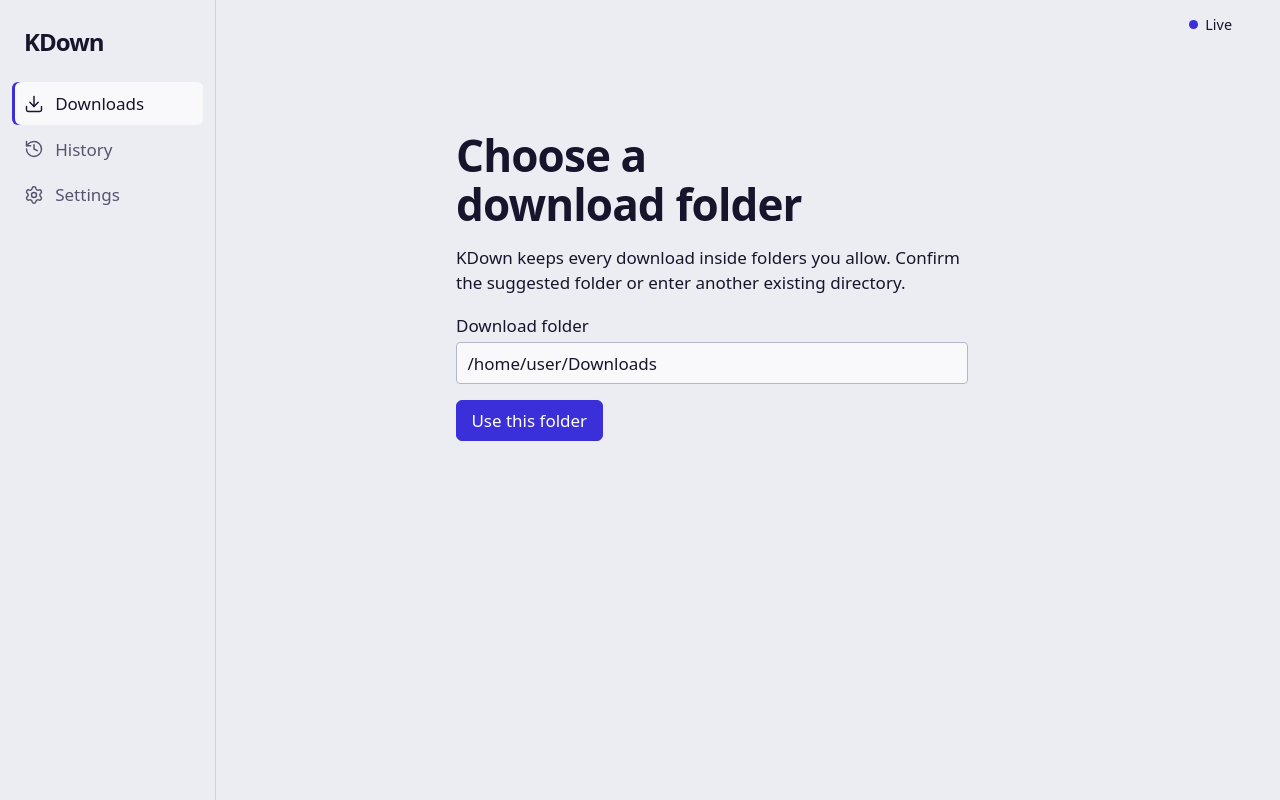
Test: FirstRunSetup › confirms the suggested path and makes it the default
This screenshot has width=1280, height=800.
Expected: the heading "Choose a download folder" is shown, left=456, top=125, right=802, bottom=234
Expected: the field labelled "Download folder" holds "/home/user/Downloads", left=456, top=342, right=968, bottom=384
Click the button "Use this folder".
click(529, 421)  # box left=456, top=400, right=602, bottom=441
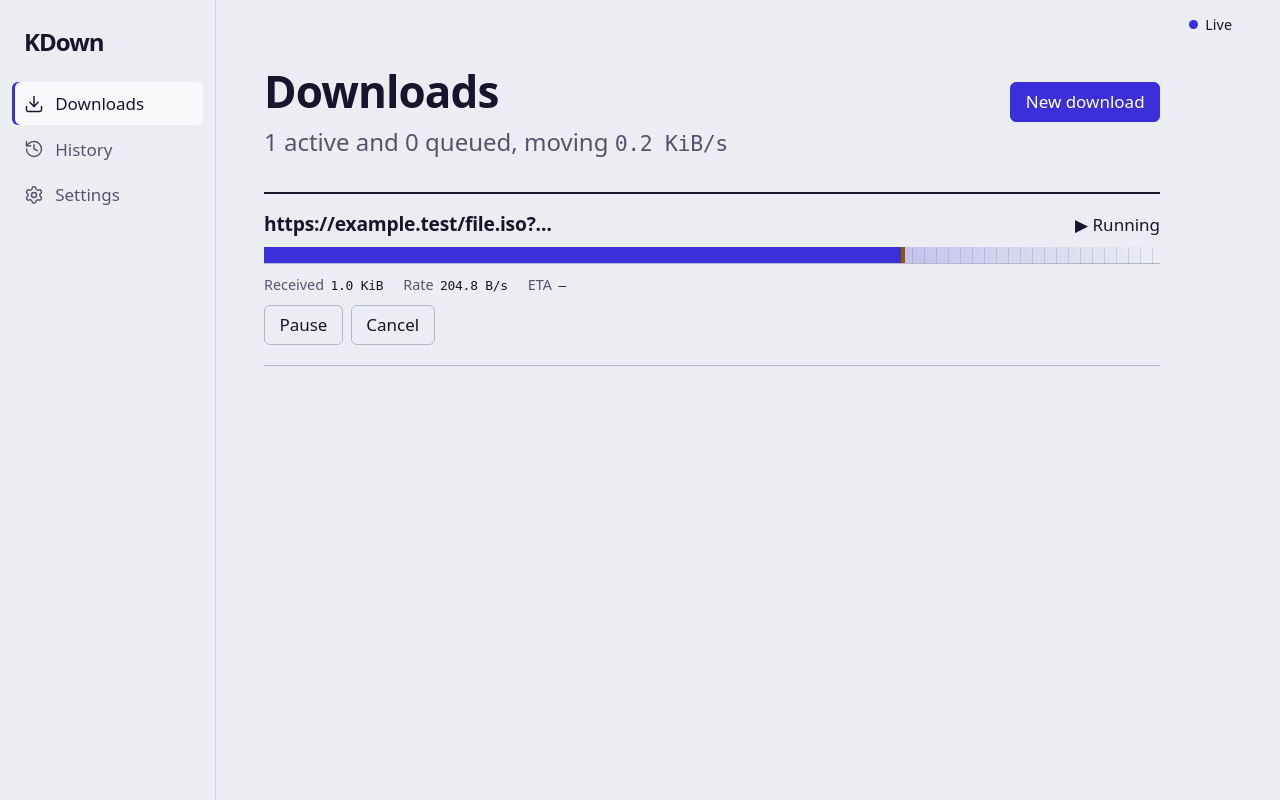
Result: the heading "Downloads" is shown at left=264, top=67, right=498, bottom=116
